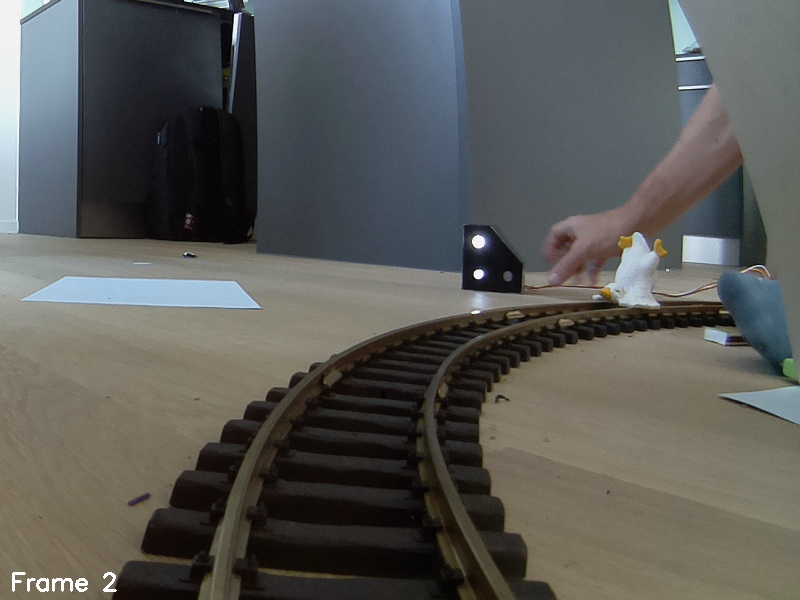Ente: (596, 229, 670, 318)
Fahrt: (462, 220, 526, 294)
